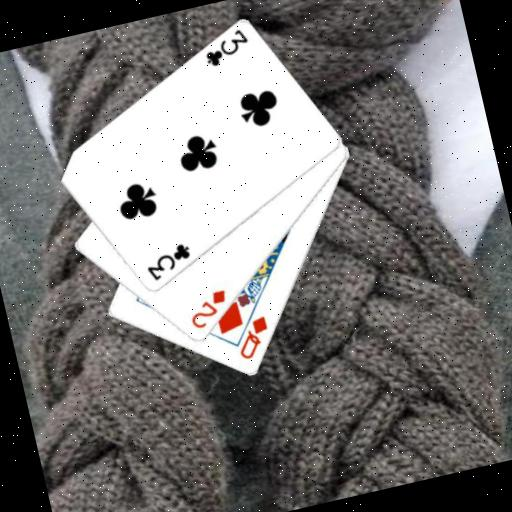2D: (182, 285, 235, 333)
3C: (198, 24, 255, 71), (140, 239, 197, 285)
QD: (230, 313, 276, 364)
